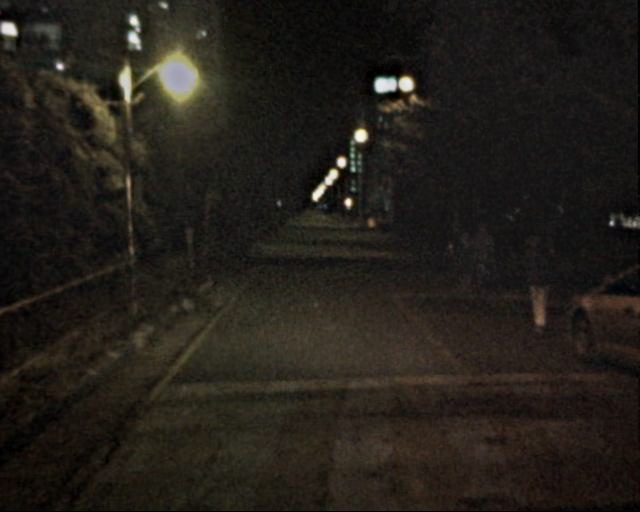person: (511, 222, 564, 336), (472, 221, 508, 298), (451, 227, 486, 301)
